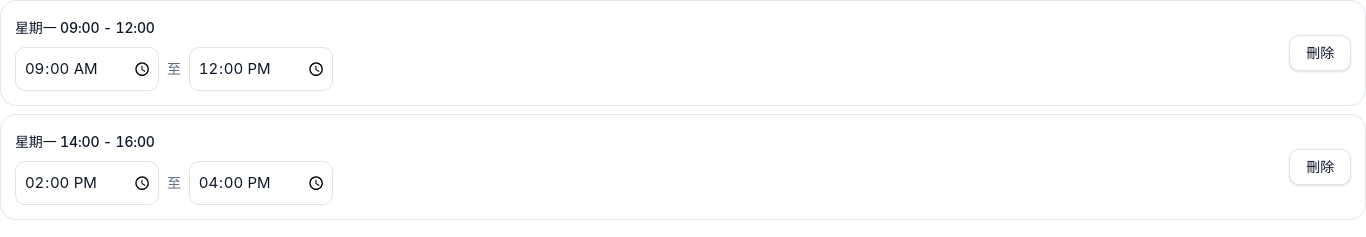
AvailabilityWindowEditList(#1024) › 改回原值 = 沒改(不出現儲存)
Replace the text in the time field named "星期一 09:00 - 12:00的開始時間" with "10:00". click: (87, 69)
box: [15, 47, 159, 91]
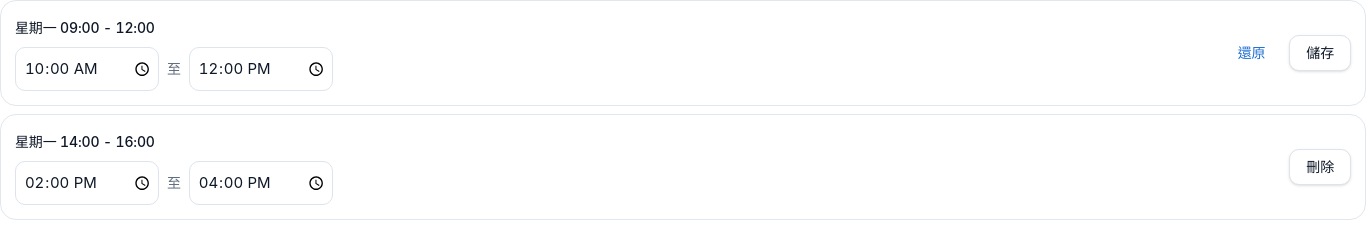
Replace the text in the time field named "星期一 09:00 - 12:00的開始時間" with "09:00". click: (87, 69)
box: [15, 47, 159, 91]
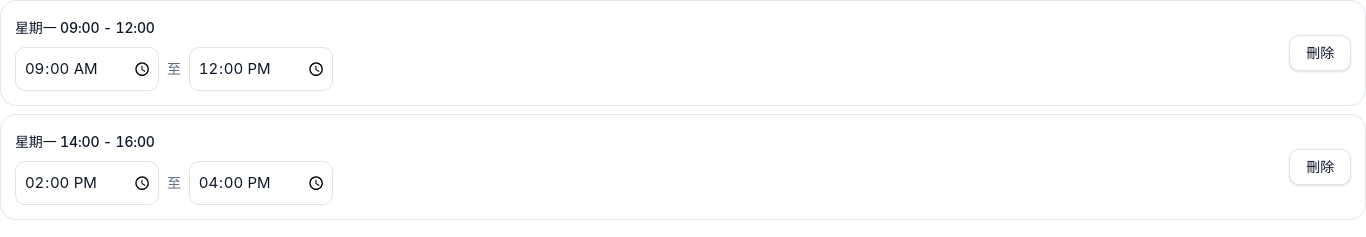
Expected: the button "儲存" is gone
